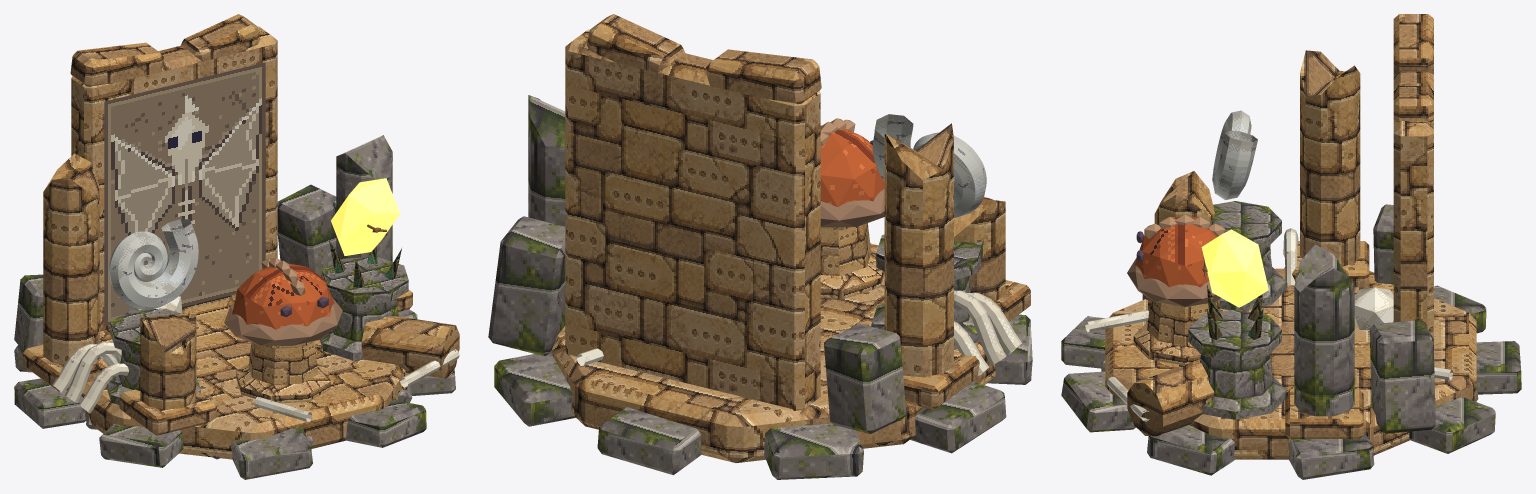
The model's file is fossil.glb.
3 views of the same model, side by side, from view 1: azimuth 30°, elevation 25°; view 2: azimuth 150°, elevation 25°; view 3: azimuth 270°, elevation 25° (orthographic). The views are drawn at different scales.
Visible parts, largest first — view 1: Ruins, Relief, Dome, Helix, Amber, Claws; view 2: Ruins, Dome, Helix; view 3: Ruins, Dome, Amber, Helix, Claws.
Part boxes in pixels (x1,y1,x2,y2): Ruins: [14, 14, 459, 479]; Relief: [104, 62, 265, 326]; Dome: [224, 258, 342, 345]; Helix: [109, 219, 198, 309]; Amber: [331, 178, 399, 255]; Claws: [329, 240, 401, 287]; Ruins: [488, 14, 1032, 479]; Dome: [820, 118, 884, 227]; Helix: [872, 114, 986, 217]; Ruins: [1061, 14, 1521, 479]; Dome: [1127, 214, 1225, 306]; Amber: [1201, 229, 1268, 307]; Helix: [1212, 110, 1257, 200]; Claws: [1207, 285, 1263, 339].
Size of the model in its own units: 4.17 by 3.3 by 4.12.
Materials: 12 (7 with a texture image).
